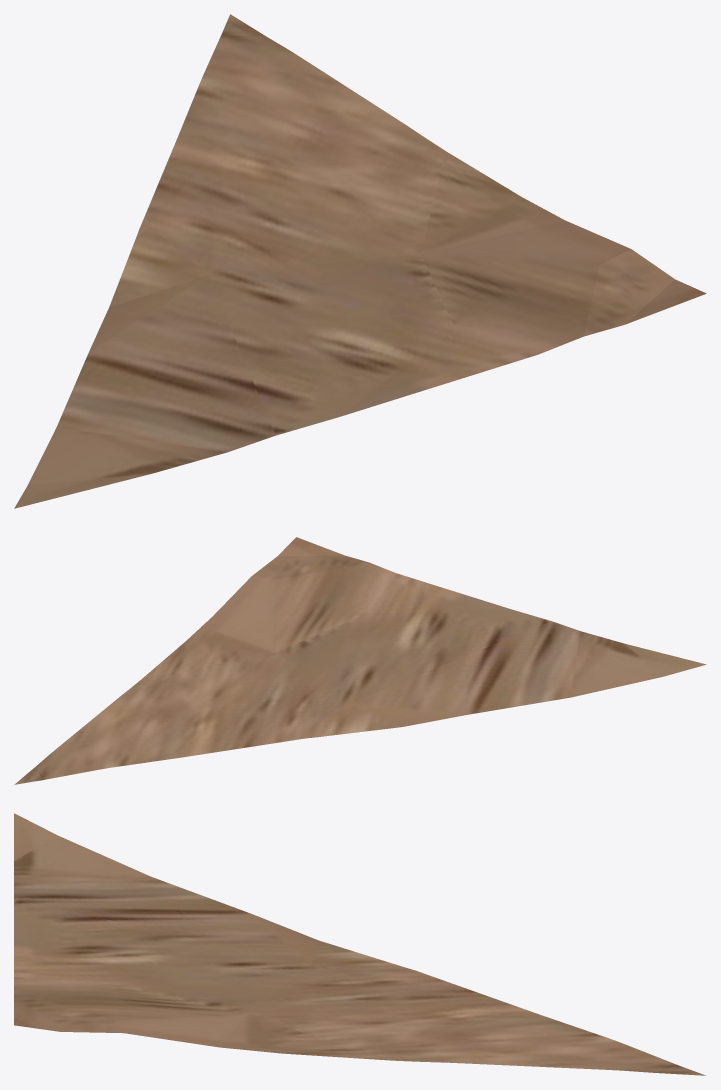
3 renders of one model, top to bottom at view 1: azimuth 30°, elevation 25°; view 2: azimuth 150°, elevation 25°; view 3: azimuth 270°, elevation 25°, orthographic. The views are drawn at different scales.
Bounding box in the file's own units: 2.73 × 0.2737 × 3.26.
Materials: 1 (1 with a texture image).
